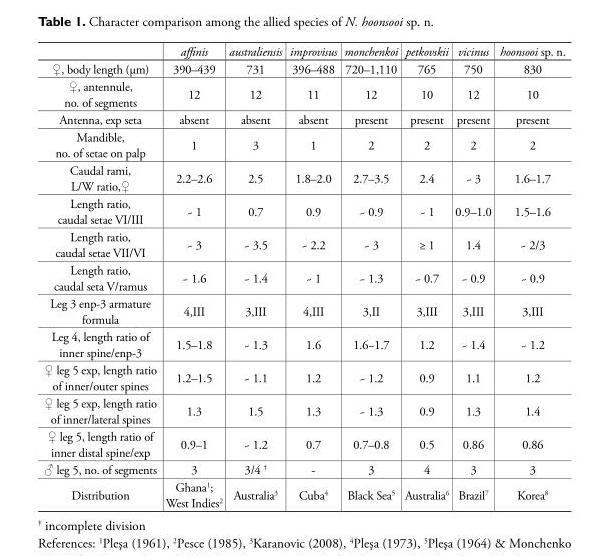table: (43, 43, 564, 510)
table column: (43, 43, 160, 510), (494, 43, 564, 510), (160, 43, 225, 510), (339, 43, 400, 510), (225, 43, 285, 510), (285, 43, 339, 510), (400, 43, 451, 510), (451, 43, 494, 510)
table column header: (43, 43, 564, 60)
table row: (43, 194, 564, 228), (43, 327, 564, 361), (43, 77, 564, 110), (43, 128, 564, 161), (43, 161, 564, 194), (43, 228, 564, 261), (43, 261, 564, 294), (43, 294, 564, 327), (43, 361, 564, 394), (43, 394, 564, 427), (43, 427, 564, 460), (43, 478, 564, 510), (43, 110, 564, 128), (43, 460, 564, 478), (43, 43, 564, 60), (43, 60, 564, 77)
